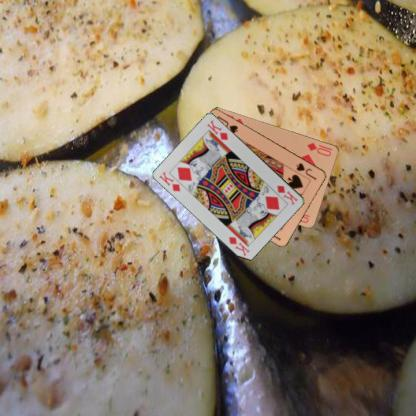10d: (304, 140, 334, 157)
Js: (293, 160, 318, 181)
Kd: (157, 169, 182, 193), (274, 183, 300, 206)
